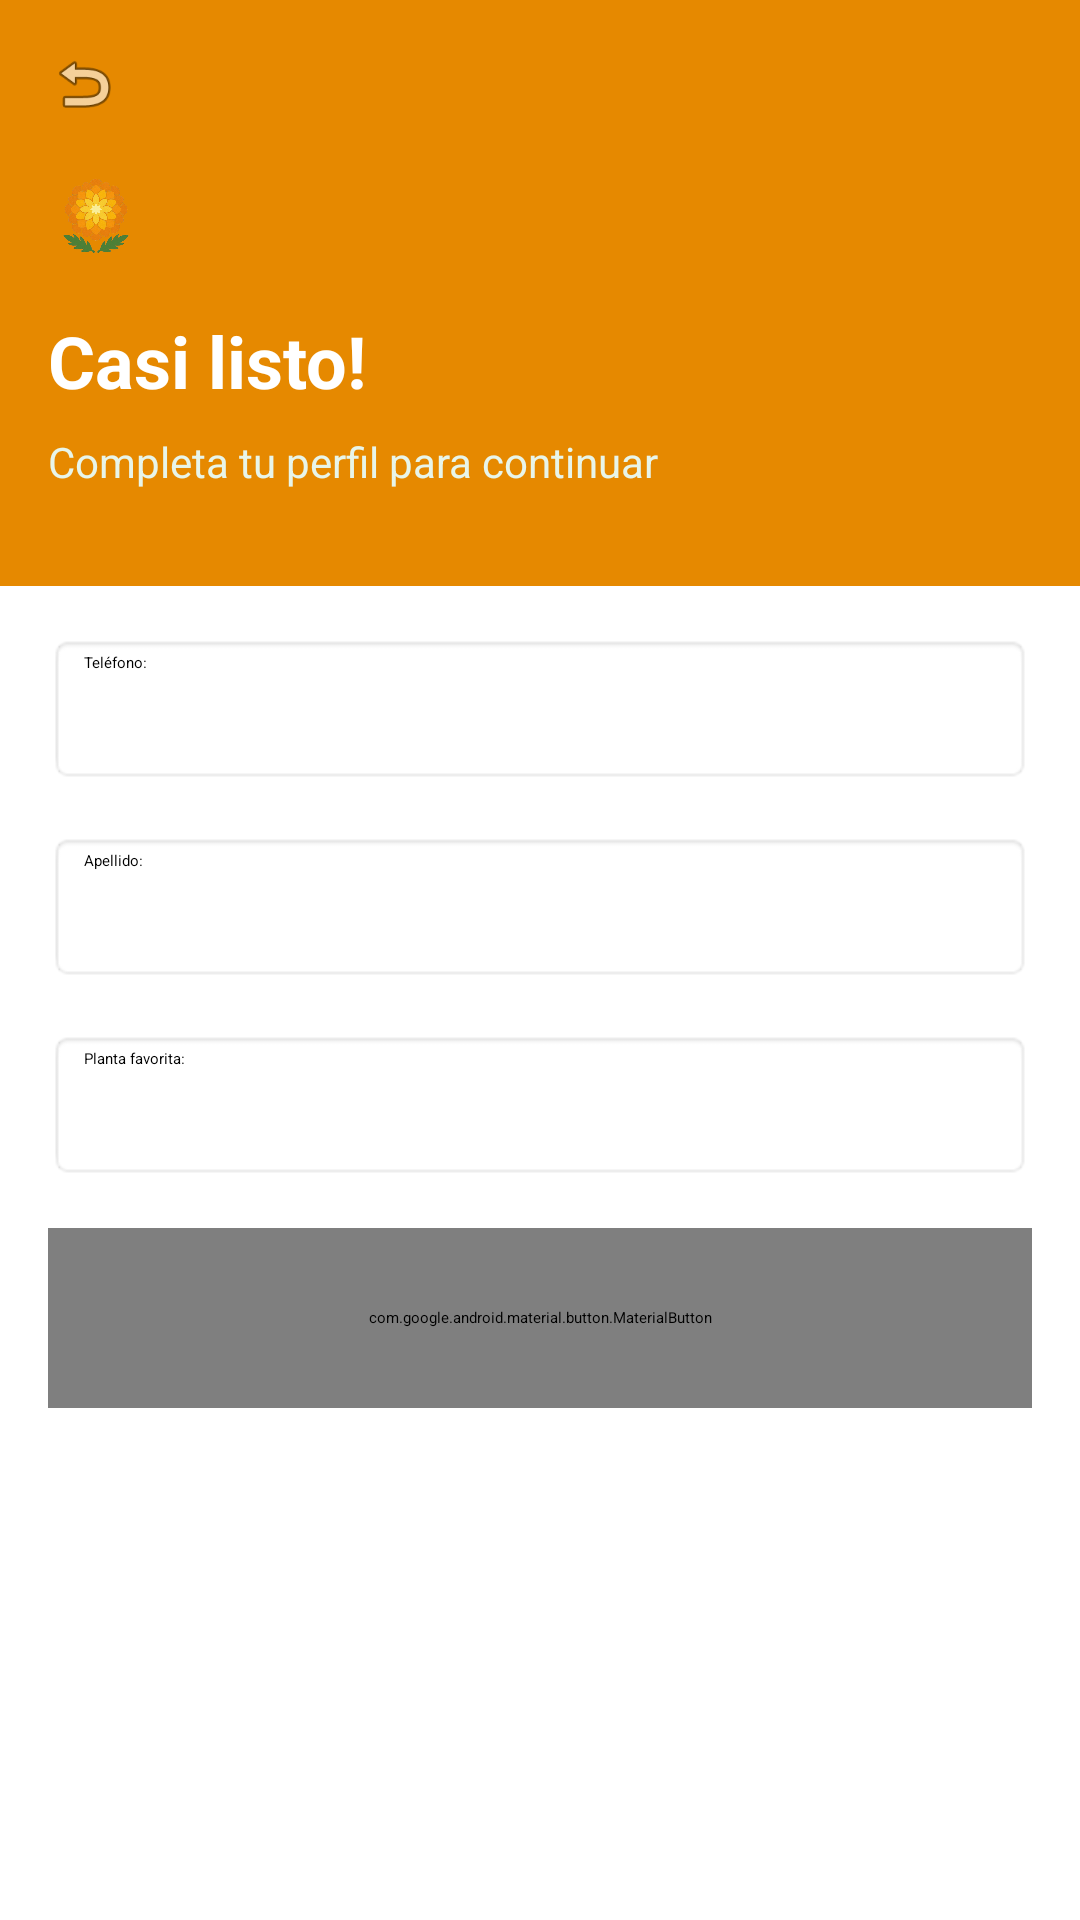

Screen size 1080*1920. Icon name, then its box in pixels as detection(x1, y1, x2, y2):
flor: detection(63, 179, 129, 253)
revert: detection(59, 61, 111, 108)
